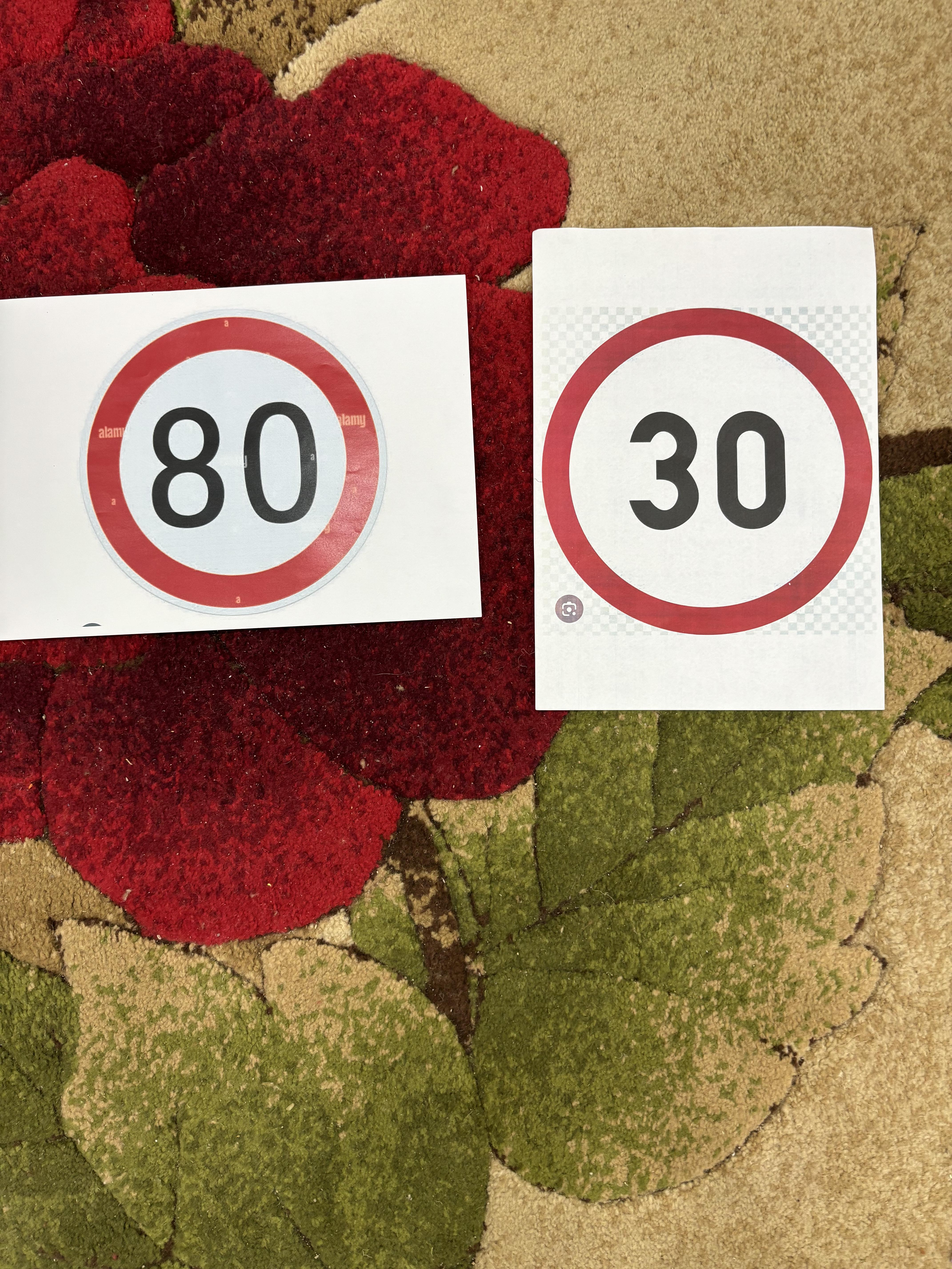30-speed: (536, 287, 881, 646)
80-Speed: (85, 305, 388, 614)
